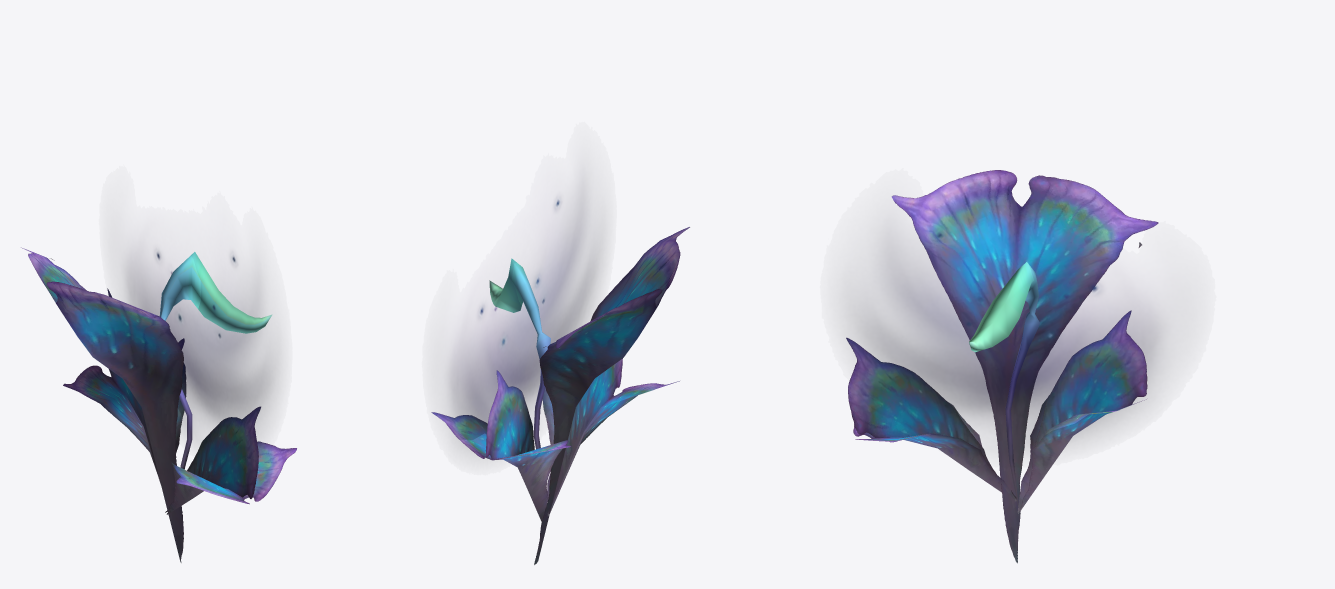
3 views of the same model, side by side, from view 1: azimuth 30°, elevation 25°; view 2: azimuth 150°, elevation 25°; view 3: azimuth 270°, elevation 25° (orthographic). The views are drawn at different scales.
Size of the model in its own units: 3.09 by 7.81 by 7.5.
2 materials, 2 textured.
